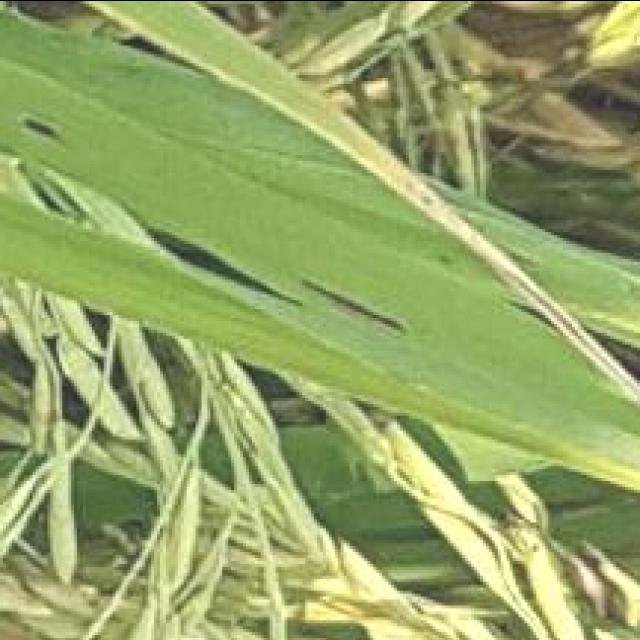Bacterial_Leaf_Blight: (380, 134, 640, 442)
